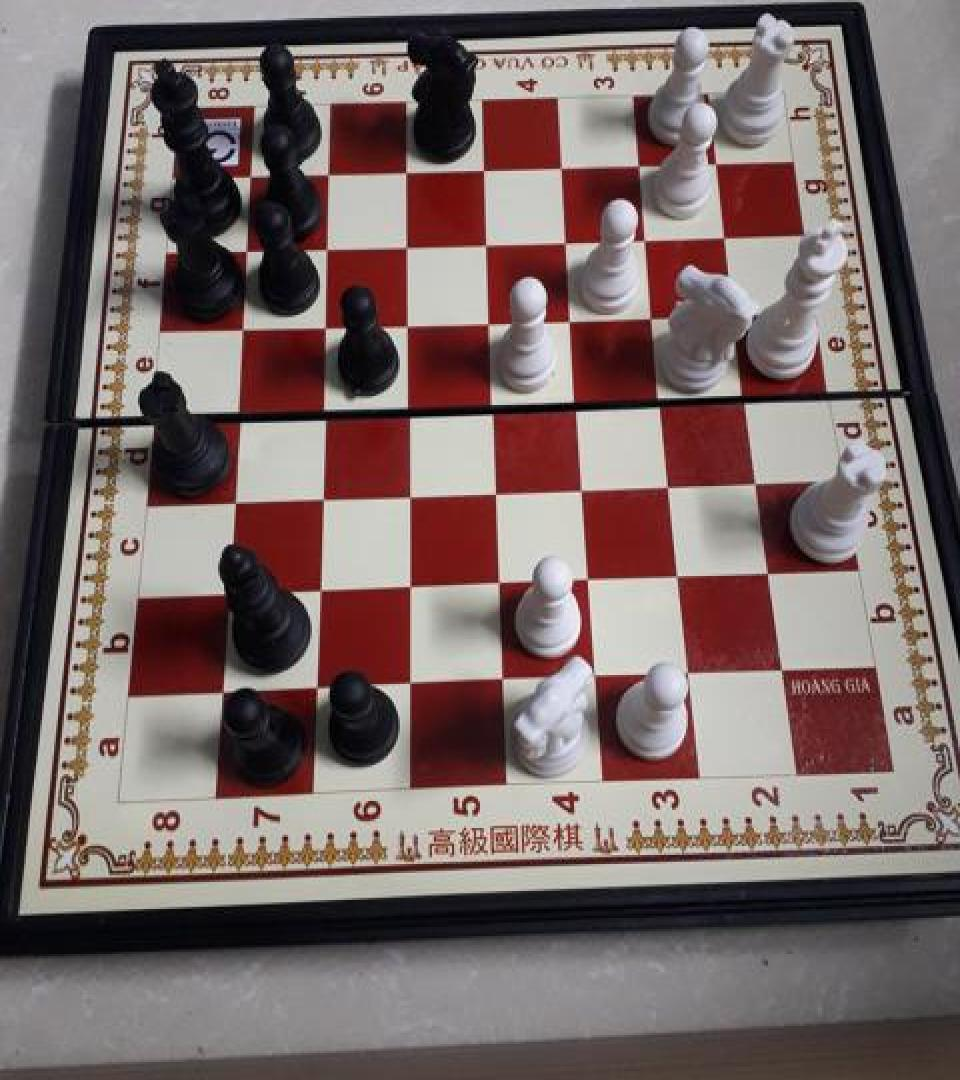xcorner: (302, 669, 334, 706), (768, 653, 800, 690), (209, 673, 241, 709), (396, 666, 428, 702), (490, 662, 522, 698), (583, 659, 615, 695), (676, 657, 708, 693), (213, 574, 245, 610), (304, 570, 336, 606), (395, 567, 427, 603), (485, 564, 517, 600), (576, 562, 608, 598), (665, 558, 697, 594), (755, 554, 787, 590), (218, 480, 250, 516), (306, 477, 338, 513), (394, 474, 426, 510), (482, 472, 514, 508), (569, 468, 601, 504), (656, 466, 688, 502), (743, 462, 775, 498), (222, 392, 254, 428), (308, 389, 340, 425), (393, 387, 425, 423), (563, 382, 595, 418), (647, 378, 679, 414), (731, 376, 763, 412), (227, 310, 259, 346), (309, 307, 341, 343), (392, 304, 424, 340), (474, 302, 506, 338), (557, 299, 589, 335), (639, 297, 671, 333), (721, 294, 753, 330), (230, 232, 262, 268), (311, 228, 343, 264), (391, 226, 423, 262), (471, 224, 503, 260), (551, 222, 583, 258), (631, 220, 663, 256), (710, 217, 742, 253), (234, 158, 266, 194), (312, 155, 344, 191), (390, 153, 422, 189), (468, 151, 500, 187), (546, 148, 578, 184), (623, 146, 655, 182), (701, 144, 733, 180), (478, 384, 510, 419)
